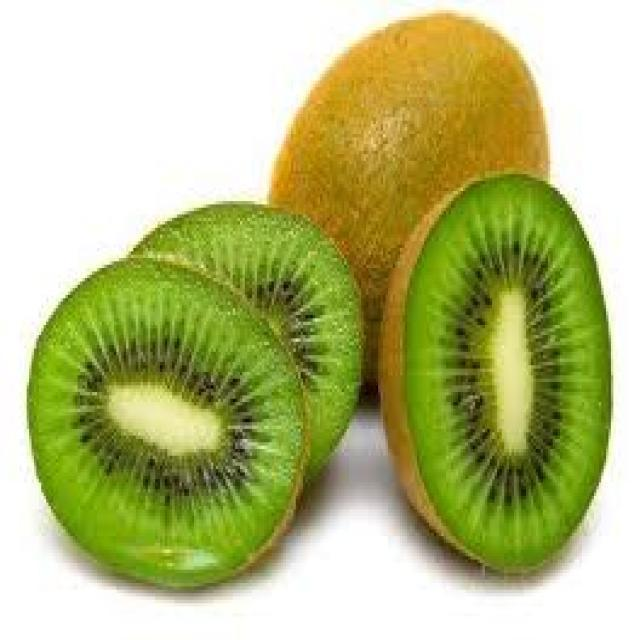Kiwi: (22, 238, 330, 610), (388, 161, 626, 594)
